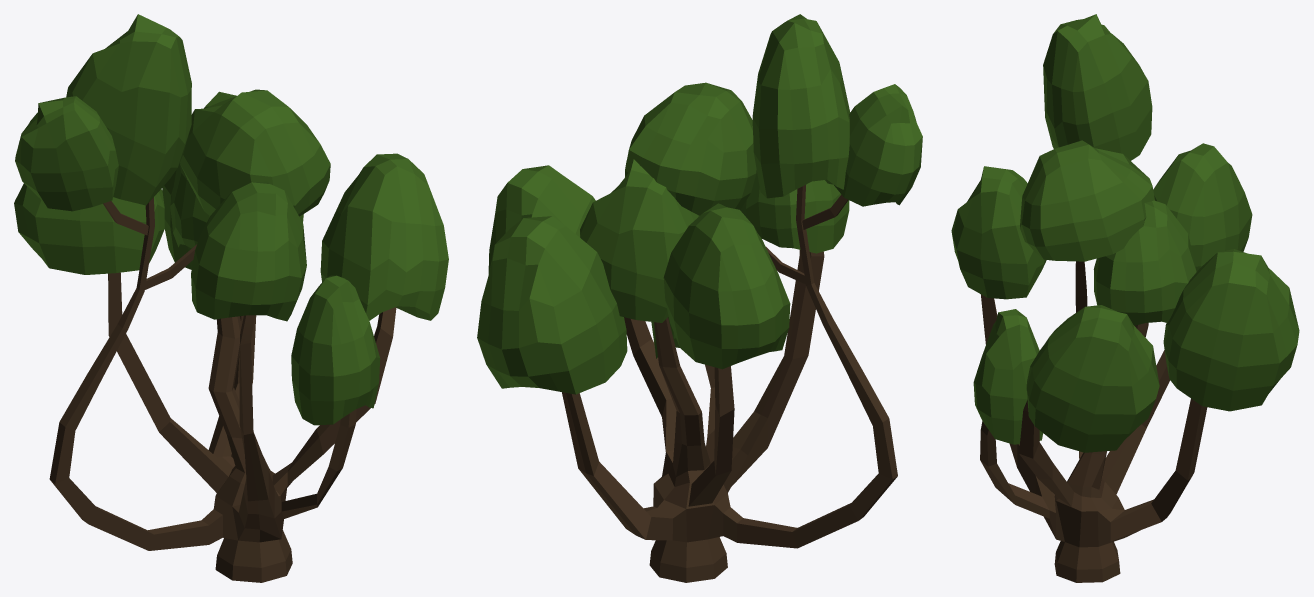
Rendered from Tree_M_C.fbx.
3 views of the same model, side by side, from view 1: azimuth 30°, elevation 25°; view 2: azimuth 150°, elevation 25°; view 3: azimuth 270°, elevation 25° (orthographic). The views are drawn at different scales.
Visible parts, largest first — view 1: Tree_M_C; view 2: Tree_M_C; view 3: Tree_M_C.
Part boxes in pixels (x1,y1,x2,y2): Tree_M_C: [14, 14, 448, 582]; Tree_M_C: [477, 14, 922, 582]; Tree_M_C: [951, 14, 1299, 582].
Bounding box in the file's own units: 604 × 797 × 496.
